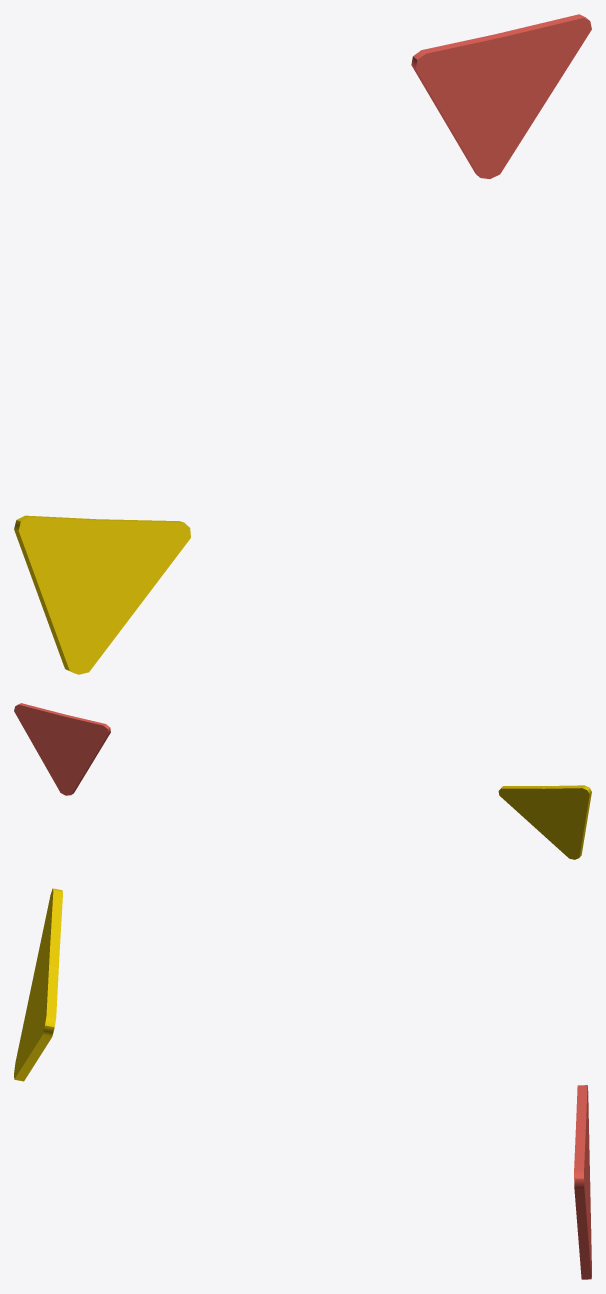
The model's file is signs.fbx.
3 views of the same model, one above another, from view 1: azimuth 30°, elevation 25°; view 2: azimuth 150°, elevation 25°; view 3: azimuth 270°, elevation 25° (orthographic). The views are drawn at different scales.
Parts seen in each view (by area): view 1: pCube25, pCube103; view 2: pCube103, pCube25; view 3: pCube25, pCube103.
Part boxes in pixels (left/top/right/bottom): pCube25: left=14, top=515, right=190, bottom=674; pCube103: left=411, top=14, right=591, bottom=178; pCube103: left=14, top=703, right=110, bottom=795; pCube25: left=498, top=785, right=591, bottom=859; pCube25: left=14, top=888, right=62, bottom=1081; pCube103: left=574, top=1085, right=591, bottom=1279.
Size of the model in its own units: 11.12 by 3.75 by 6.26.
